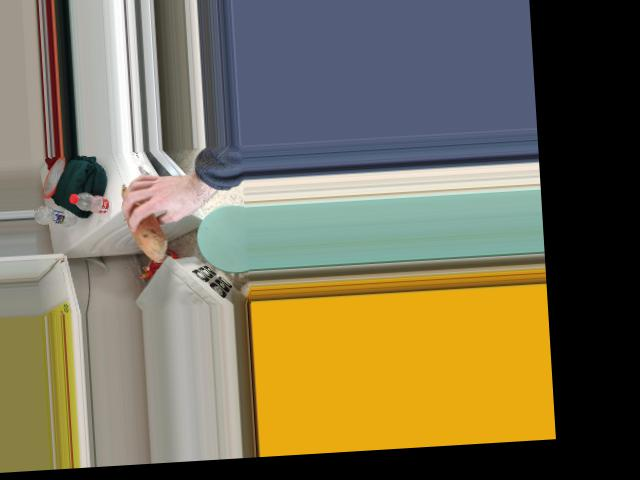sweet_potato: (121, 179, 161, 257)
